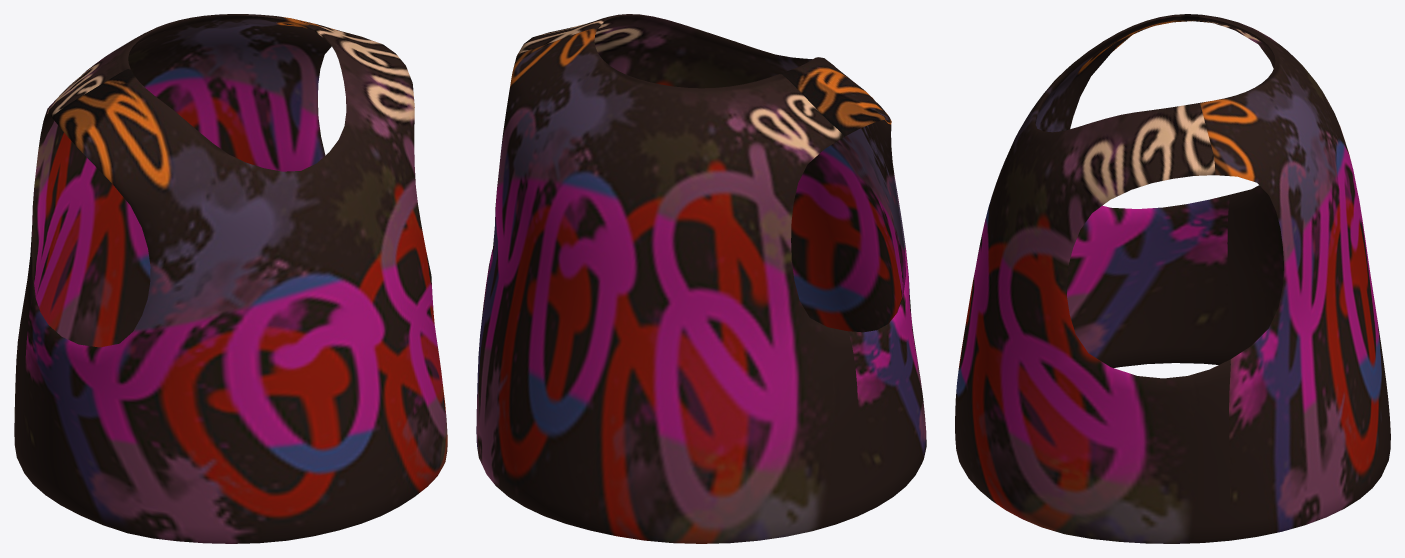
Rendered from Painted.gltf.
3 views of the same model, side by side, from view 1: azimuth 30°, elevation 25°; view 2: azimuth 150°, elevation 25°; view 3: azimuth 270°, elevation 25° (orthographic). The views are drawn at different scales.
Parts seen in each view (by area): view 1: cloth1-PBR; view 2: cloth1-PBR; view 3: cloth1-PBR.
Boxes of the visible parts, left/top/right/bottom form: cloth1-PBR: left=14, top=14, right=447, bottom=543; cloth1-PBR: left=476, top=14, right=926, bottom=543; cloth1-PBR: left=955, top=14, right=1390, bottom=543.
Bounding box in the file's own units: 5.93 × 6.01 × 5.98.
1 material, 1 textured.
